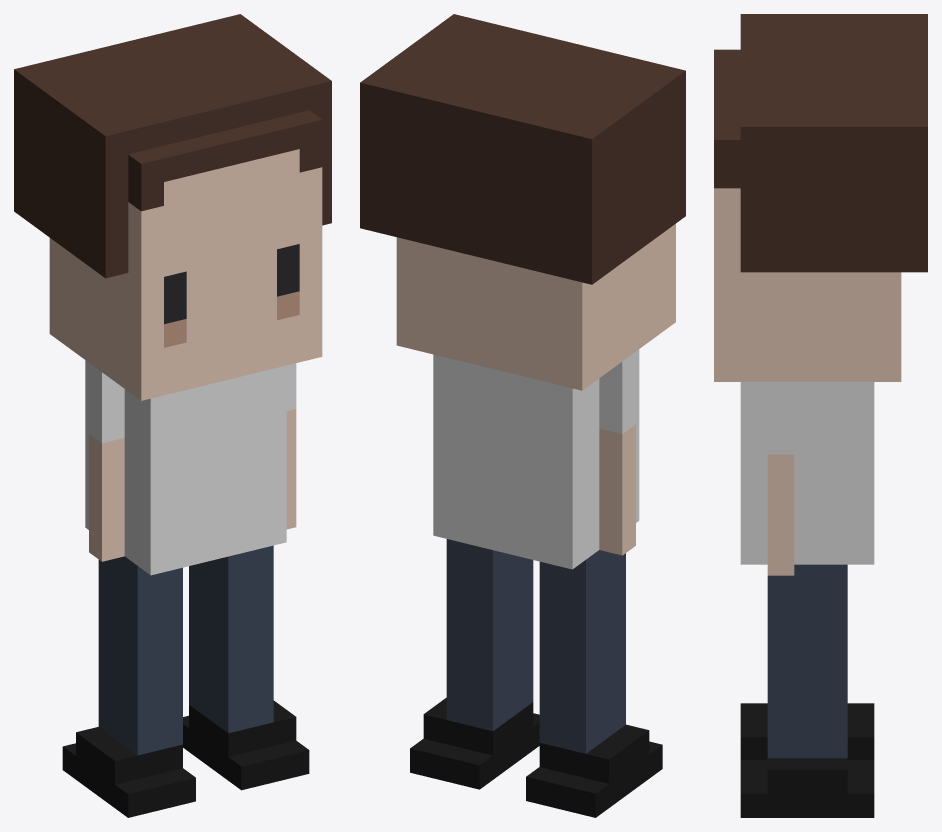
Rendered from gaura.gltf.
3 views of the same model, side by side, from view 1: azimuth 30°, elevation 25°; view 2: azimuth 150°, elevation 25°; view 3: azimuth 270°, elevation 25° (orthographic). The views are drawn at different scales.
Visible parts, largest first — view 1: Layer.1; view 2: Layer.1; view 3: Layer.1.
Boxes of the visible parts, x1=… form: Layer.1: x1=14, y1=14, x2=331, y2=817; Layer.1: x1=360, y1=14, x2=685, y2=817; Layer.1: x1=714, y1=14, x2=927, y2=817.
Size of the model in its own units: 10 by 29 by 8.
Materials: 1 (1 with a texture image).
